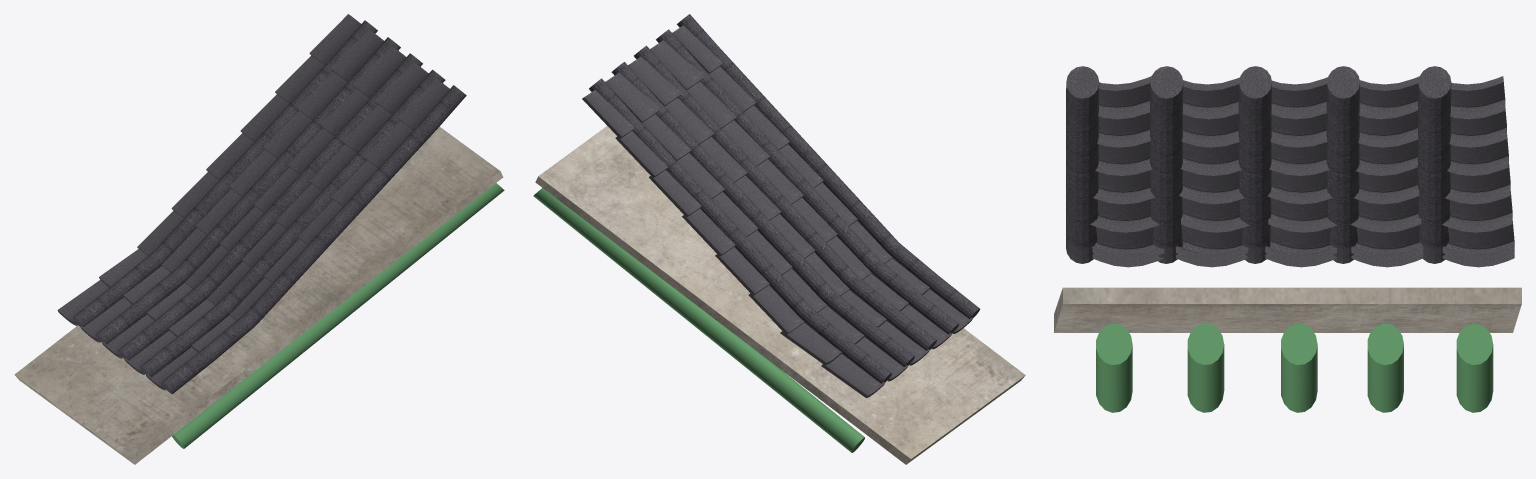
The model's file is SM_Roof_7.fbx.
3 renders of one model, left to right at view 1: azimuth 30°, elevation 25°; view 2: azimuth 150°, elevation 25°; view 3: azimuth 270°, elevation 25°, orthographic. The views are drawn at different scales.
Visible parts, largest first — view 1: SM_Roof_7; view 2: SM_Roof_7; view 3: SM_Roof_7.
Part boxes in pixels (box(x1,y1,x2,y2)): SM_Roof_7: box(14, 14, 504, 464); SM_Roof_7: box(533, 14, 1025, 464); SM_Roof_7: box(1054, 66, 1521, 412).
Size of the model in its own units: 560 by 294 by 418.
3 materials, 3 textured.
